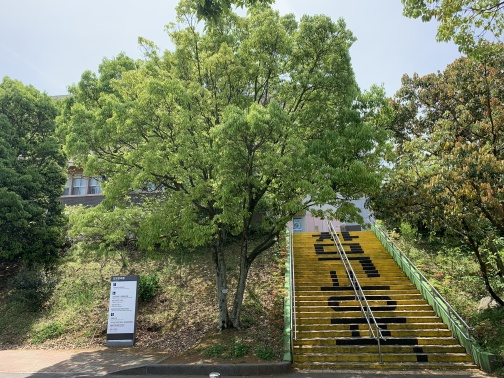College Of Education: (45, 83, 218, 208)
